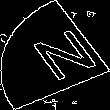N_SE: (14, 23, 96, 87)
